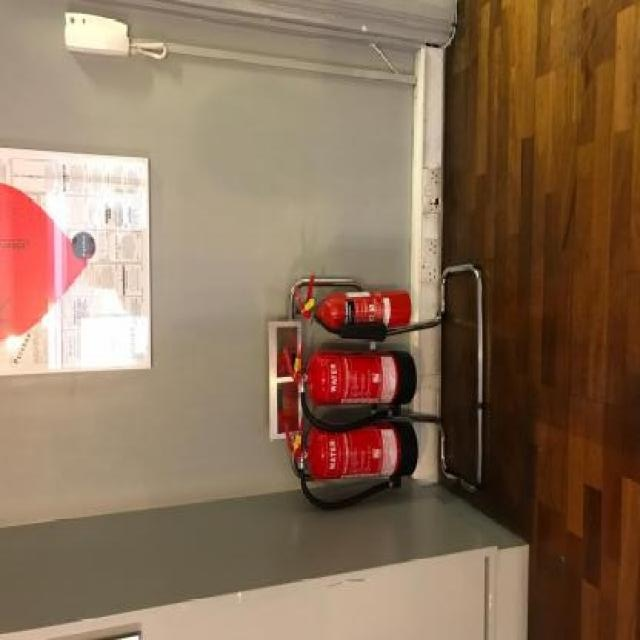fire extinguisher: (284, 338, 418, 434), (283, 417, 419, 511), (291, 275, 412, 342)
